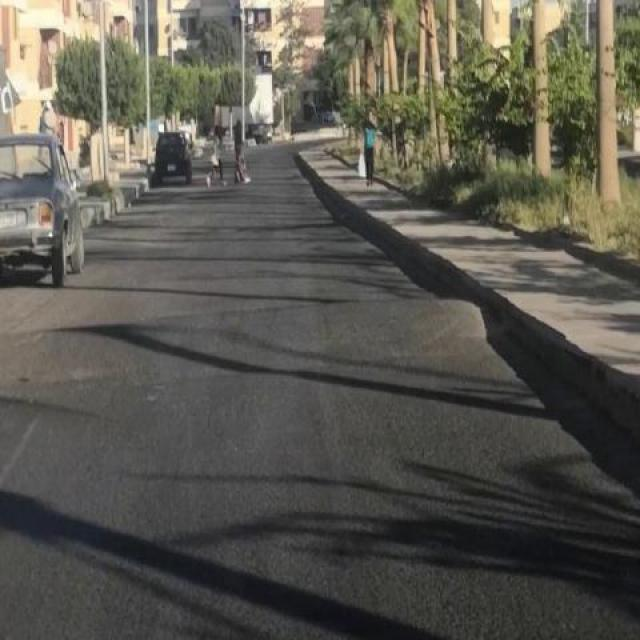Unmarked Bump: (0, 295, 509, 384)
